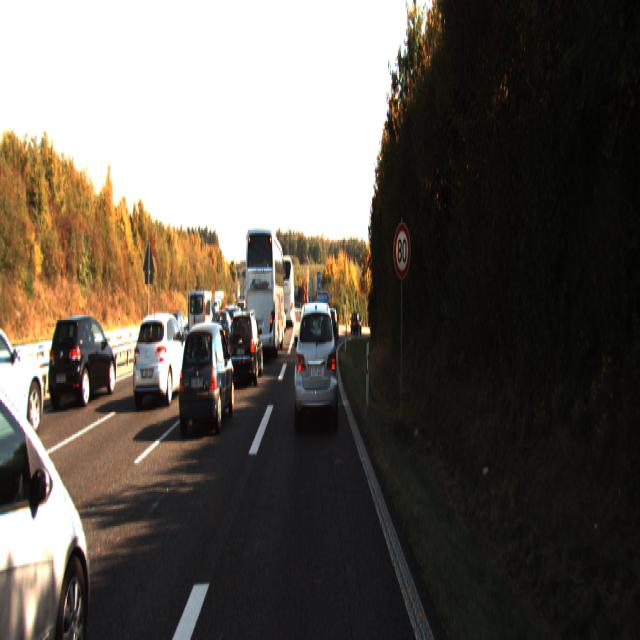Car: (0, 324, 103, 638), (176, 316, 235, 436), (48, 310, 117, 408), (0, 316, 48, 452), (293, 296, 339, 432), (131, 309, 190, 409), (244, 224, 285, 360), (227, 308, 264, 386), (188, 289, 215, 351), (278, 256, 294, 328), (324, 307, 339, 340), (351, 310, 362, 334)
